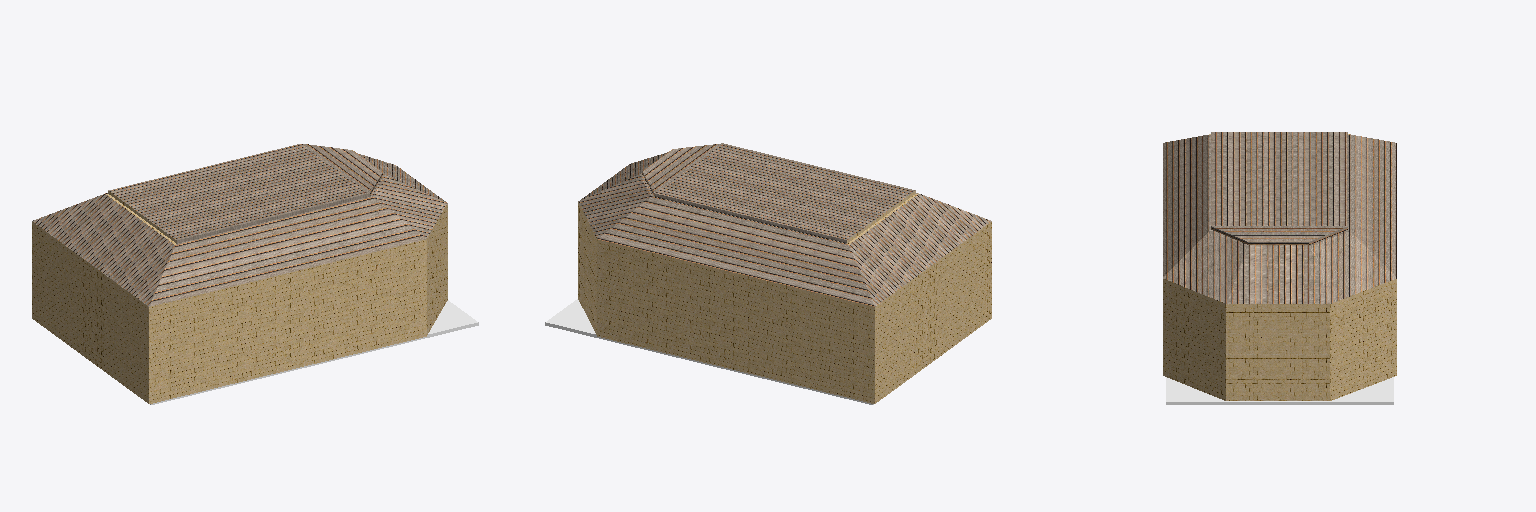
3 renders of one model, left to right at view 1: azimuth 30°, elevation 25°; view 2: azimuth 150°, elevation 25°; view 3: azimuth 270°, elevation 25°, orthographic.
Parts seen in each view (by area): view 1: Object.2, Object.1, Object.3; view 2: Object.2, Object.1, Object.3; view 3: Object.1, Object.2, Object.3.
Boxes of the visible parts, box(x1,y1,x2,y2) form: Object.2: box(32, 203, 447, 403); Object.1: box(32, 144, 446, 306); Object.3: box(150, 300, 478, 404); Object.2: box(578, 202, 991, 403); Object.1: box(578, 143, 991, 306); Object.3: box(545, 299, 873, 404); Object.1: box(1163, 132, 1396, 303); Object.2: box(1163, 279, 1396, 400); Object.3: box(1166, 377, 1393, 404).
Size of the model in its own units: 106 by 41.83 by 65.19.
Materials: 5 (3 with a texture image).